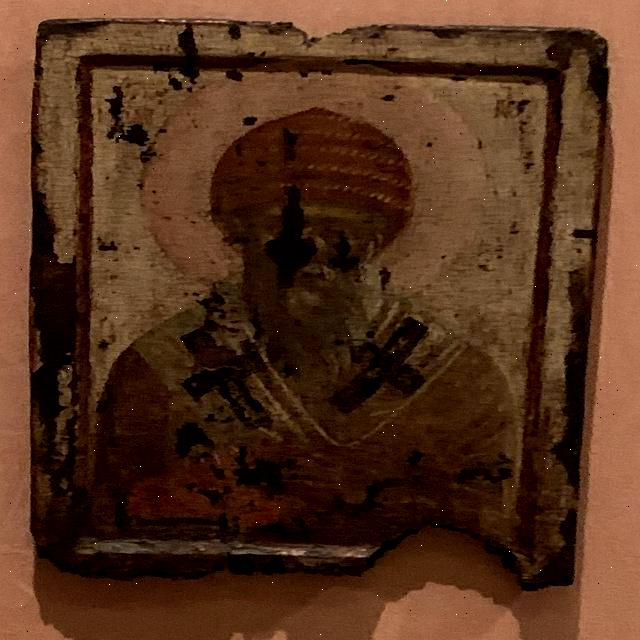saint_spiridon: (97, 78, 544, 545)
